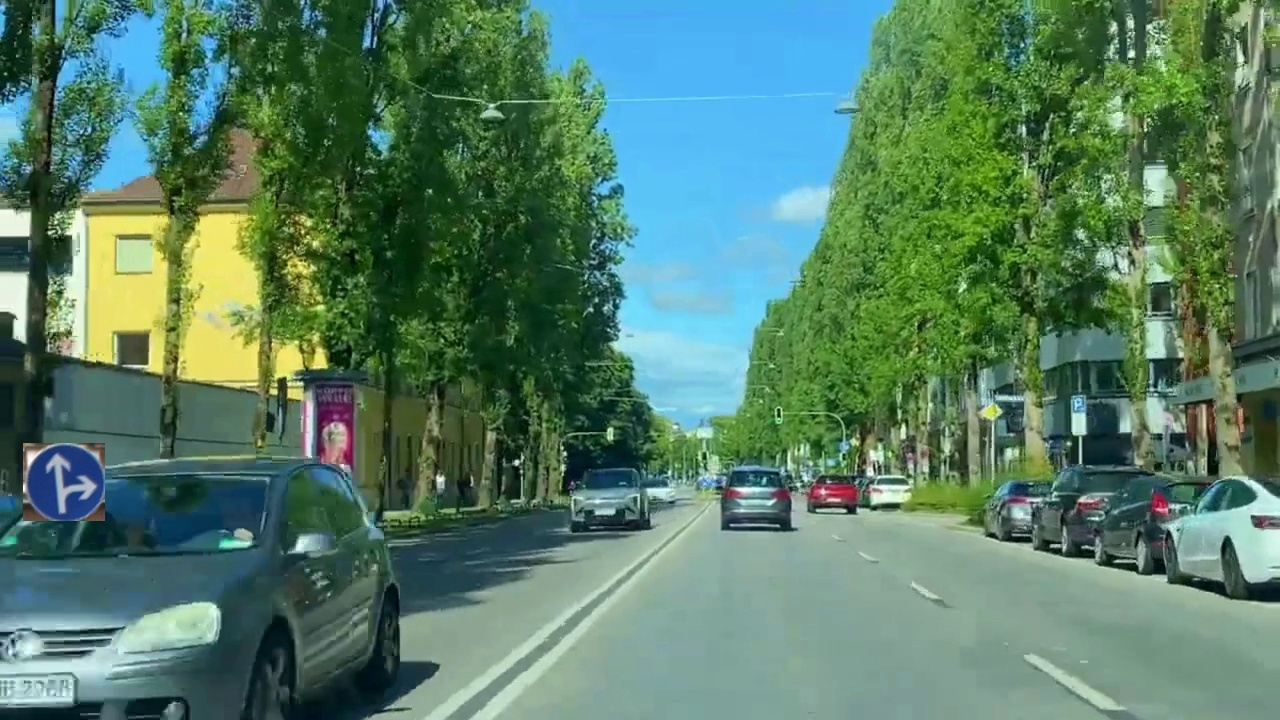Straight/right: (23, 443, 105, 521)
